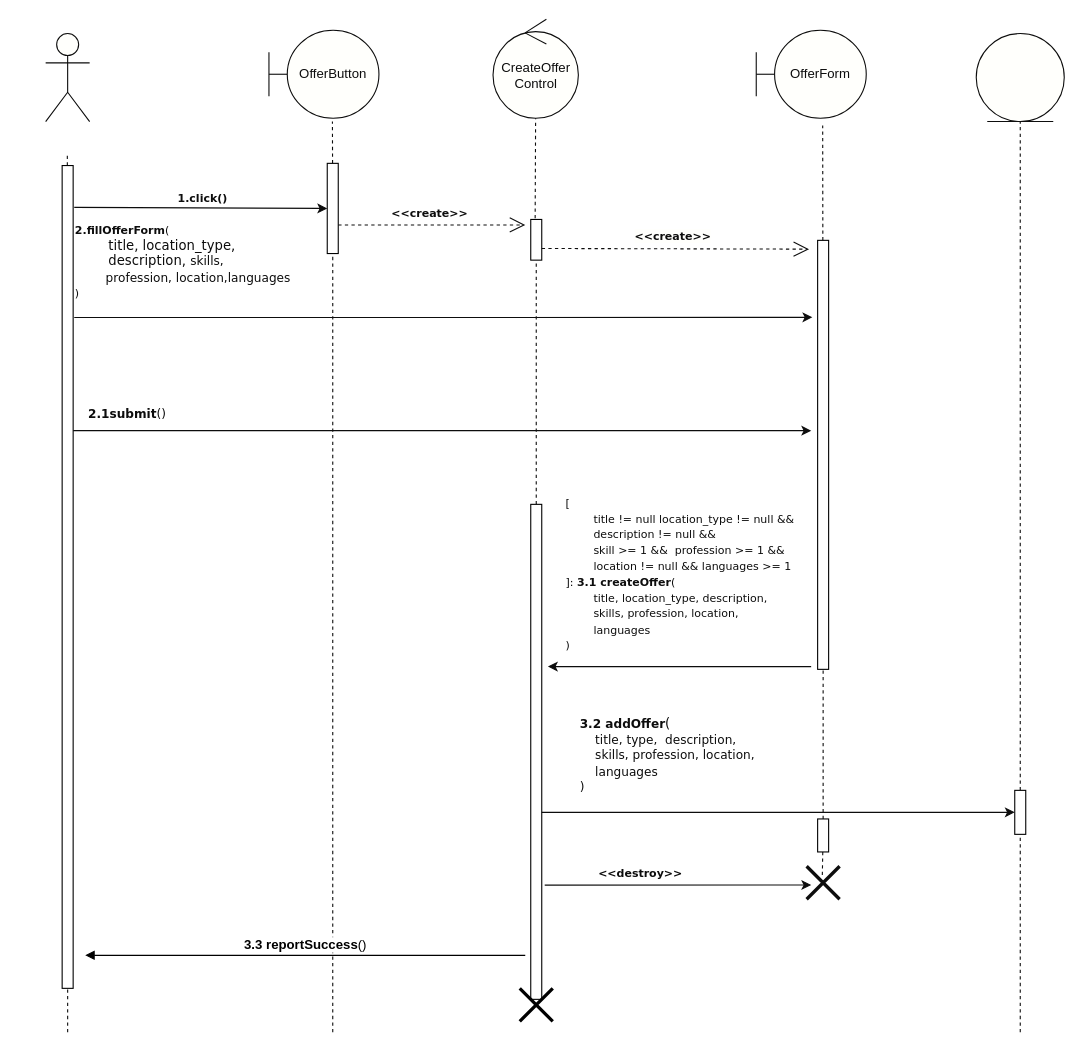
This 1084x1053 diagram has some shape labels left out. The box of each missing label's shape, as (x1, y1, x2, y2) in pixels:
Datore di Lavoro: (45, 32, 90, 122)
Offer: (975, 32, 1064, 122)
